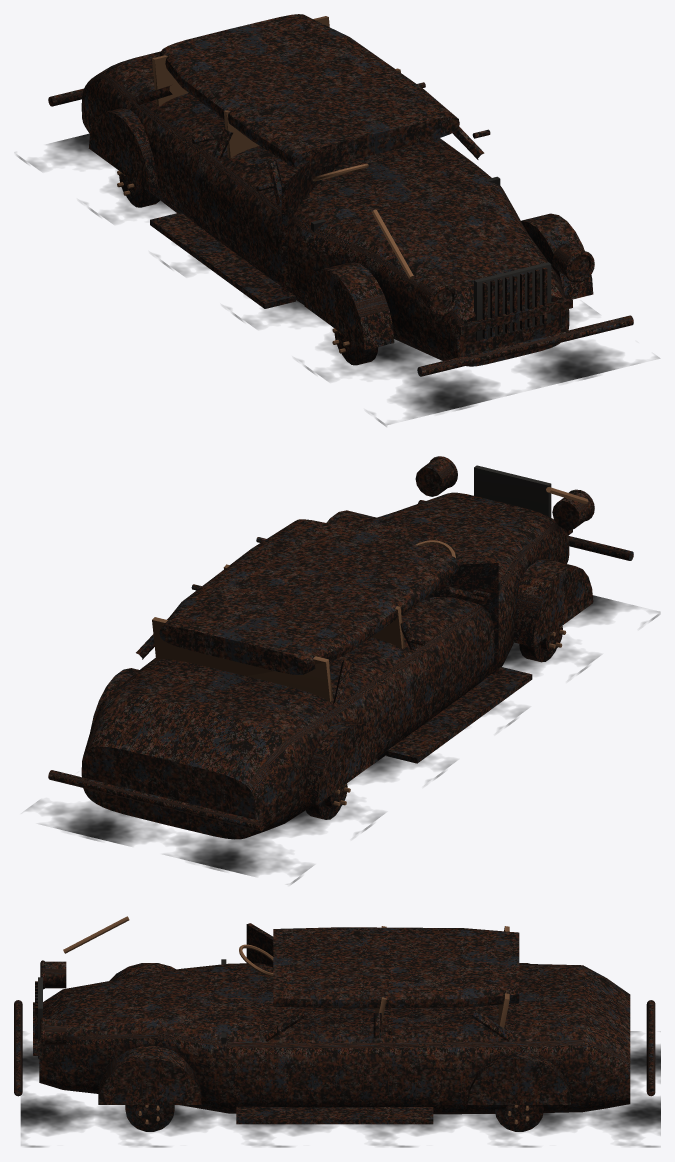
File: wrecked_car.glb
3 renders of one model, top to bottom at view 1: azimuth 30°, elevation 25°; view 2: azimuth 150°, elevation 25°; view 3: azimuth 270°, elevation 25°, orthographic. The views are drawn at different scales.
Parts seen in each view (by area): view 1: WreckedCar, Door_Left; view 2: WreckedCar, Door_Left; view 3: WreckedCar, Door_Left.
Boxes of the visible parts, box(x1,y1,x2,y2) form: WreckedCar: box(17, 14, 659, 426); Door_Left: box(281, 160, 340, 291); WreckedCar: box(25, 456, 660, 884); Door_Left: box(428, 560, 498, 673); WreckedCar: box(14, 916, 660, 1147); Door_Left: box(246, 923, 273, 967).
Bounding box in the file's own units: 2.2 × 1.23 × 5.25.
4 materials, 2 textured.
